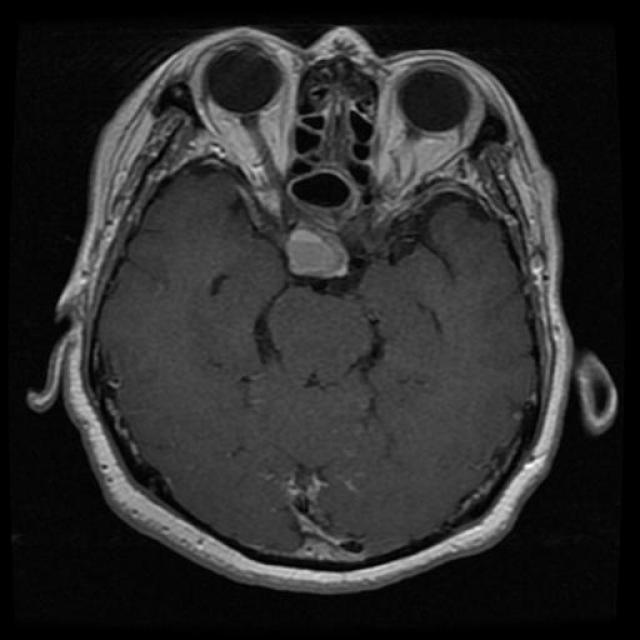Brain-Tumor: (282, 224, 368, 290)
eye: (180, 26, 327, 210), (364, 39, 494, 218)
